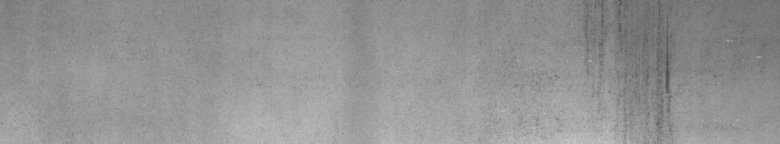ka: (585, 4, 762, 130)
